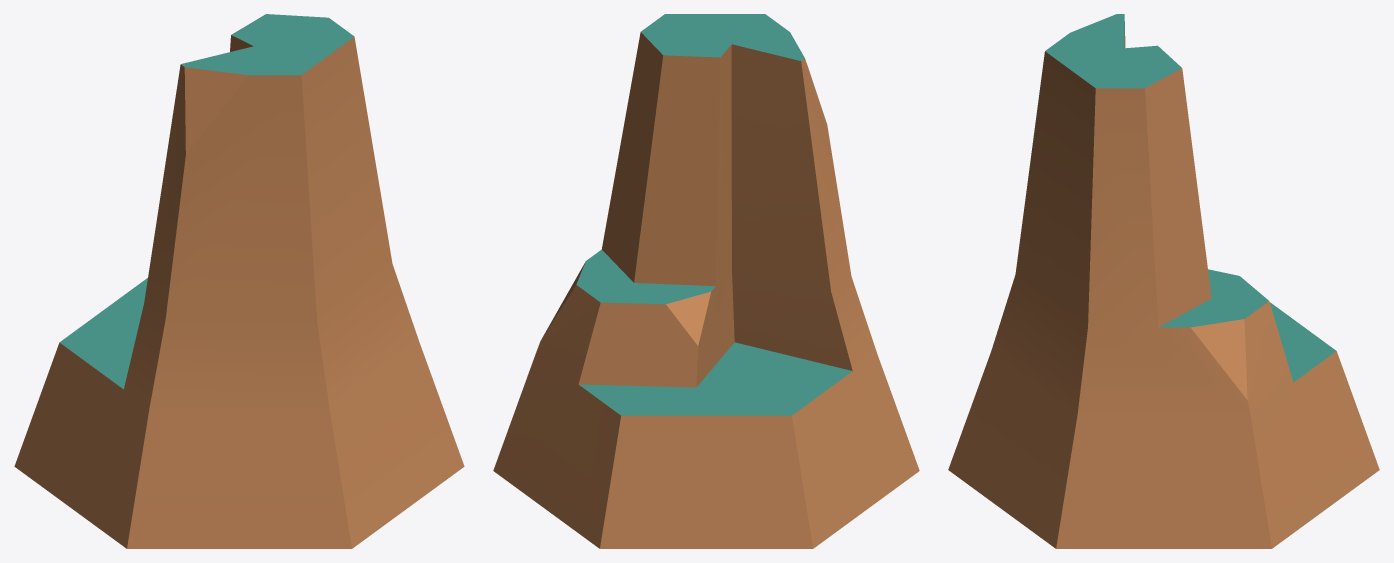
The model's file is rock_tall8.obj.
3 renders of one model, left to right at view 1: azimuth 30°, elevation 25°; view 2: azimuth 150°, elevation 25°; view 3: azimuth 270°, elevation 25°, orthographic. The views are drawn at different scales.
Visible parts, largest first — view 1: rock_tall8; view 2: rock_tall8; view 3: rock_tall8.
Part boxes in pixels (left/top/right/bottom): rock_tall8: left=14, top=14, right=464, bottom=548; rock_tall8: left=493, top=14, right=919, bottom=548; rock_tall8: left=948, top=14, right=1379, bottom=548.
Size of the model in its own units: 5.75 by 7.11 by 6.64.
